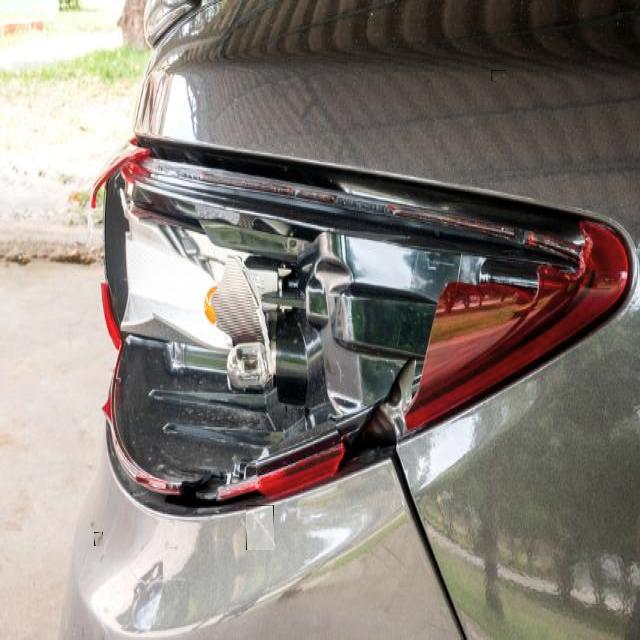Dent: (246, 505, 274, 550), (491, 70, 506, 81), (94, 532, 103, 546)
